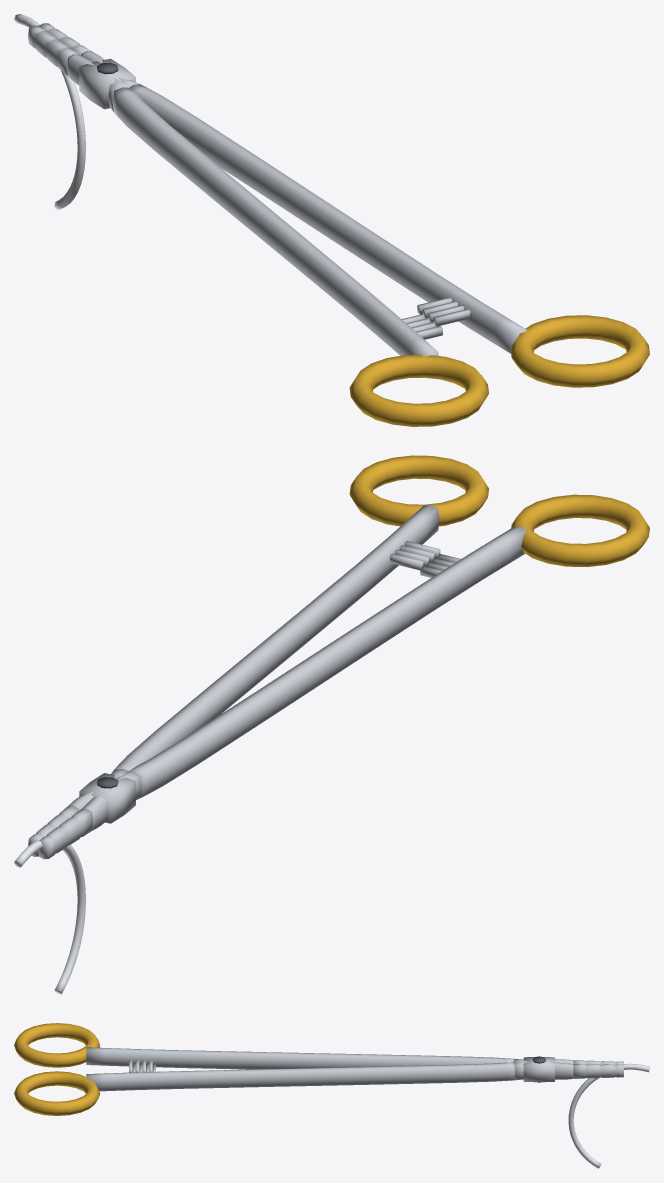
The model's file is needle.glb.
The picture shows the model from 3 angles, top to bottom: view 1: azimuth 30°, elevation 25°; view 2: azimuth 150°, elevation 25°; view 3: azimuth 270°, elevation 25°; orthographic projection. The views are drawn at different scales.
Parts seen in each view (by area): view 1: JawA, JawB, RingA, RingB, SutureNeedle; view 2: JawB, JawA, RingB, RingA, SutureNeedle; view 3: JawA, JawB, RingA, RingB, SutureNeedle.
Boxes of the visible parts, x1,y1,x2,y2 form: JawA: (28,25,526,353); JawB: (39,23,442,356); RingA: (510,315,649,387); RingB: (349,354,488,426); SutureNeedle: (14,14,85,209); JawB: (28,526,527,856); JawA: (39,505,440,859); RingB: (511,494,649,566); RingA: (349,455,488,526); SutureNeedle: (14,840,85,994); JawA: (86,1057,623,1091); JawB: (86,1047,623,1079); RingA: (14,1071,100,1115); RingB: (14,1023,100,1067); SutureNeedle: (568,1063,649,1168).
Bounding box in the file's own units: 0.0474 × 0.0284 × 0.1503.
